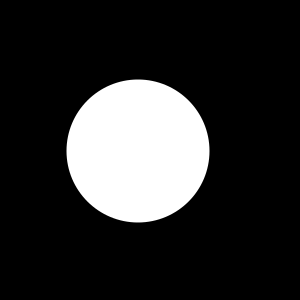circle: (96, 121, 159, 184)
rectangle: (66, 79, 210, 222)
